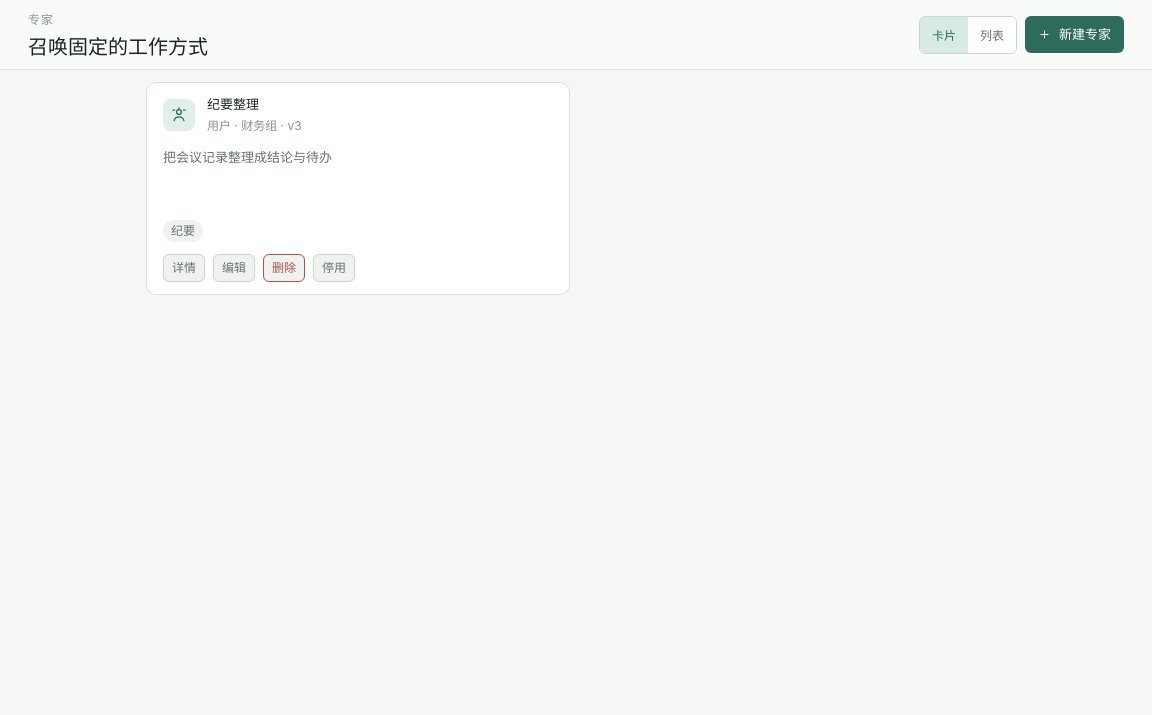
Test: ExpertsPage 的整页配置交互 › 从卡片进入编辑器后返回目录
This screenshot has width=1152, height=715.
Click the button "编辑" at (234, 268), box [213, 254, 255, 282]
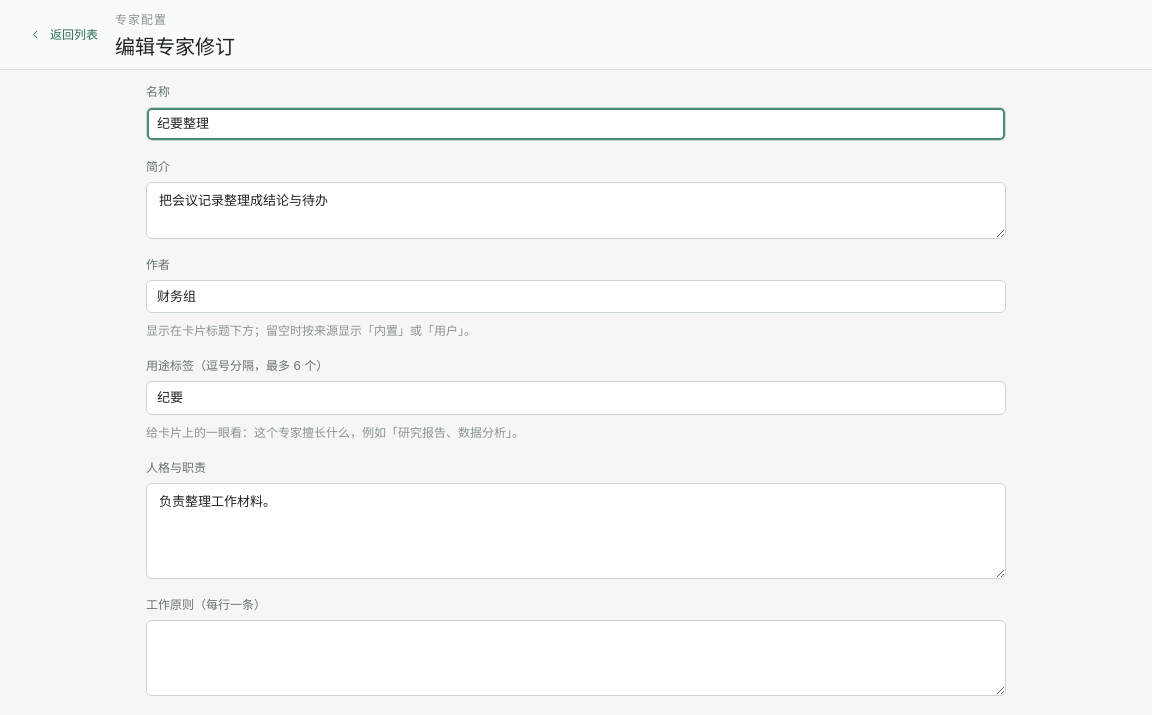
Click the button "返回列表" at (64, 34), box [28, 20, 99, 48]
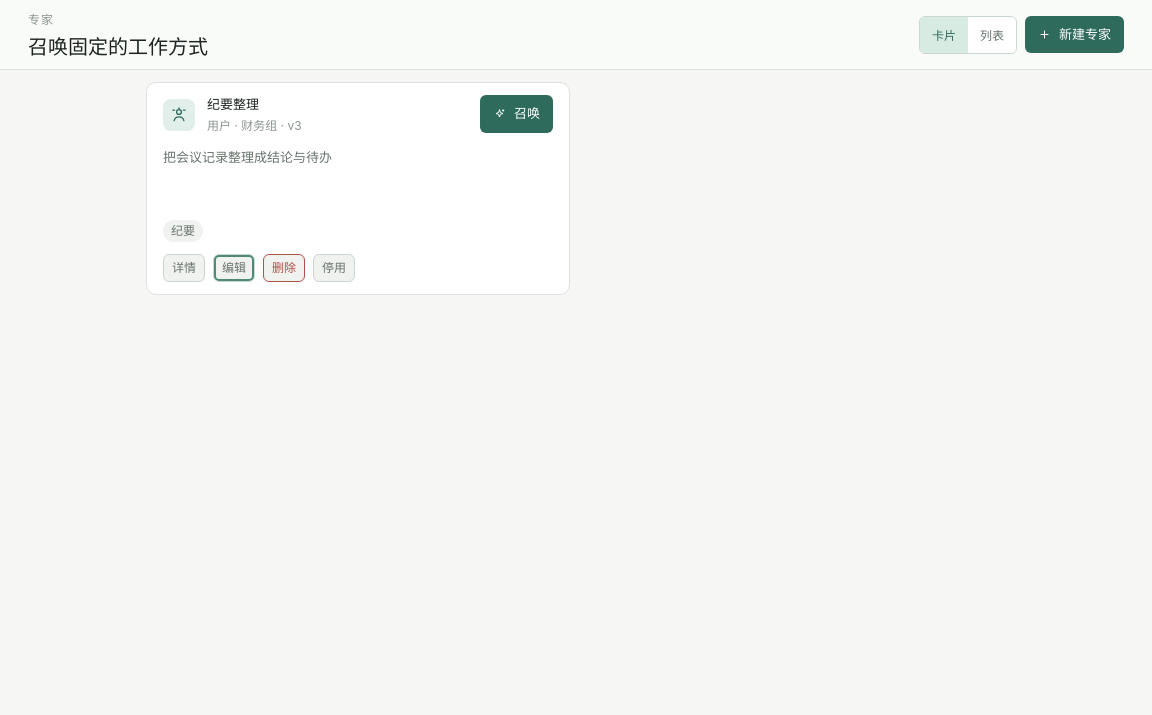
Check: the button "详情" is shown, box [163, 254, 205, 282]
